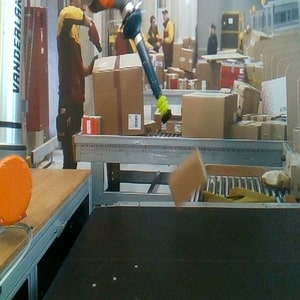box: (165, 148, 209, 213)
